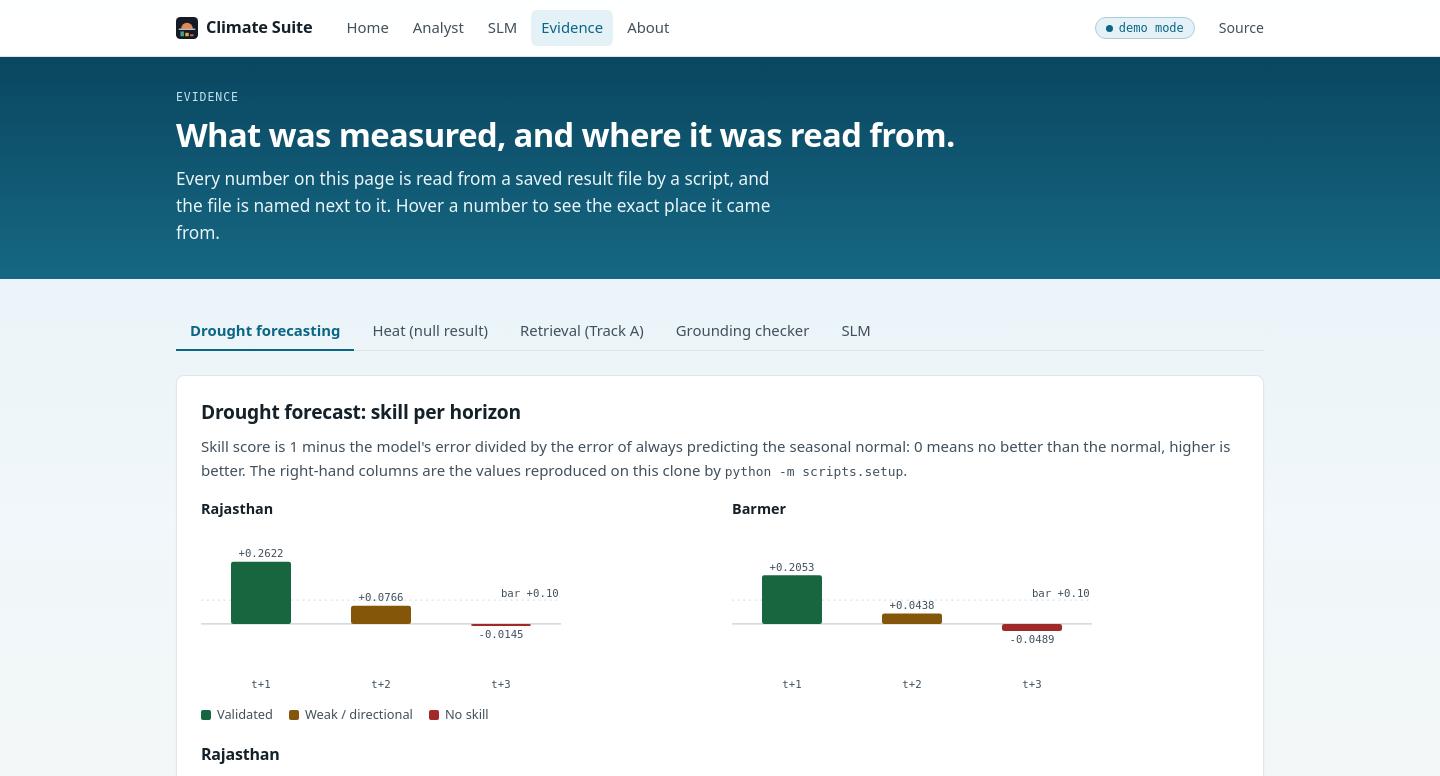
Test: static pages › Evidence names the corpus for every Track A number and the default search
Click the tab "Retrieval (Track A)" at (582, 331), box top-left (506, 310), bottom-right (658, 351)
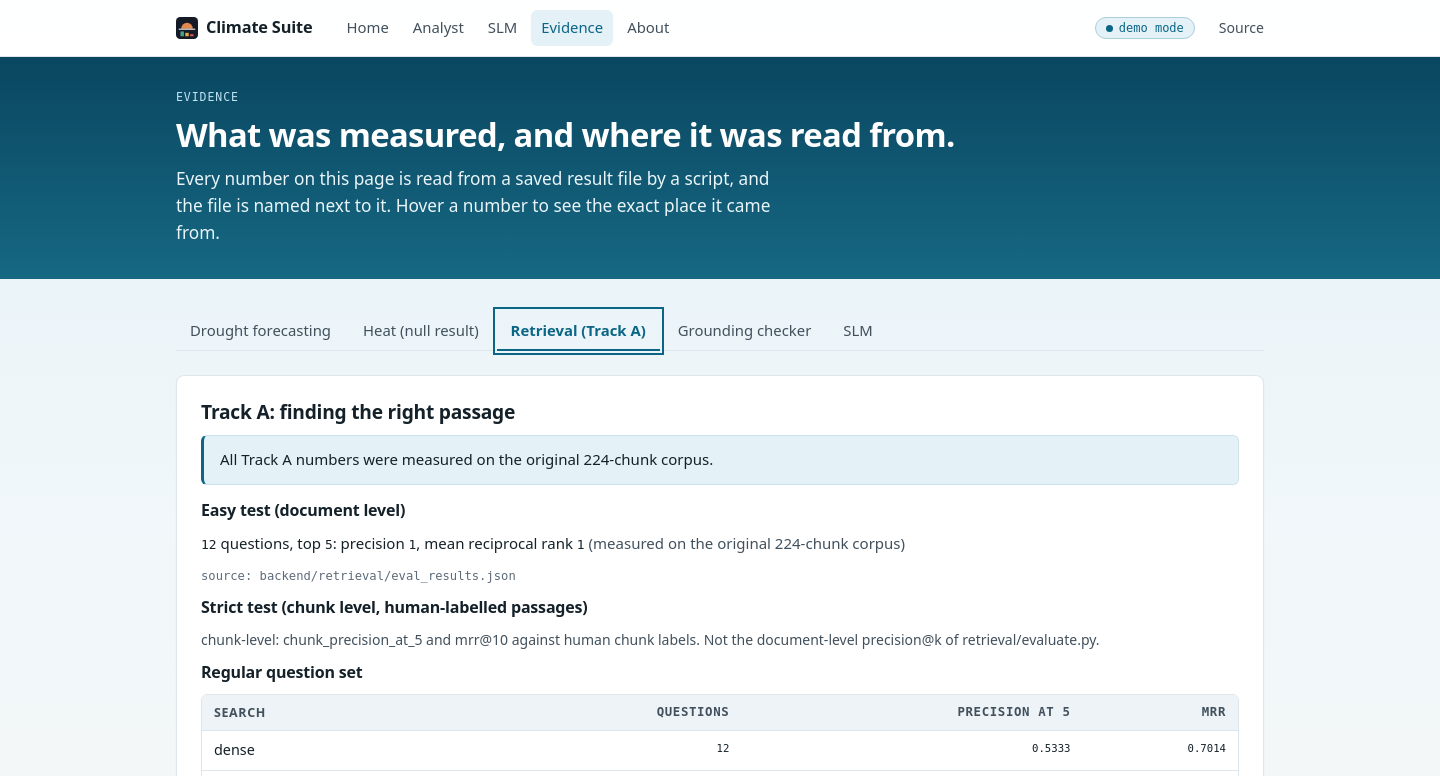
Click the tab "Grounding checker" at (744, 331), box top-left (664, 310), bottom-right (825, 351)
(page scrolled)
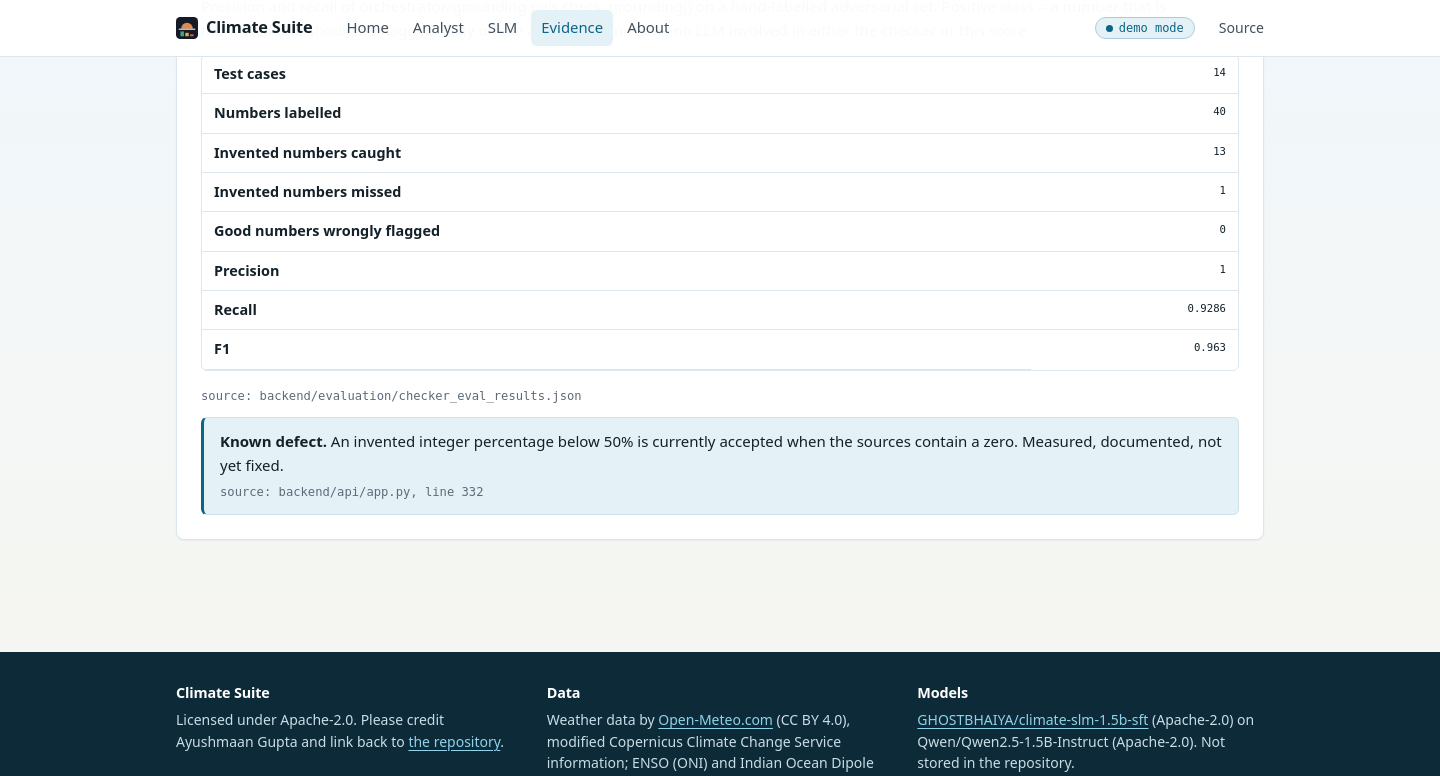
Result: the text "Known defect." is shown at top-left (220, 431), bottom-right (327, 451)
